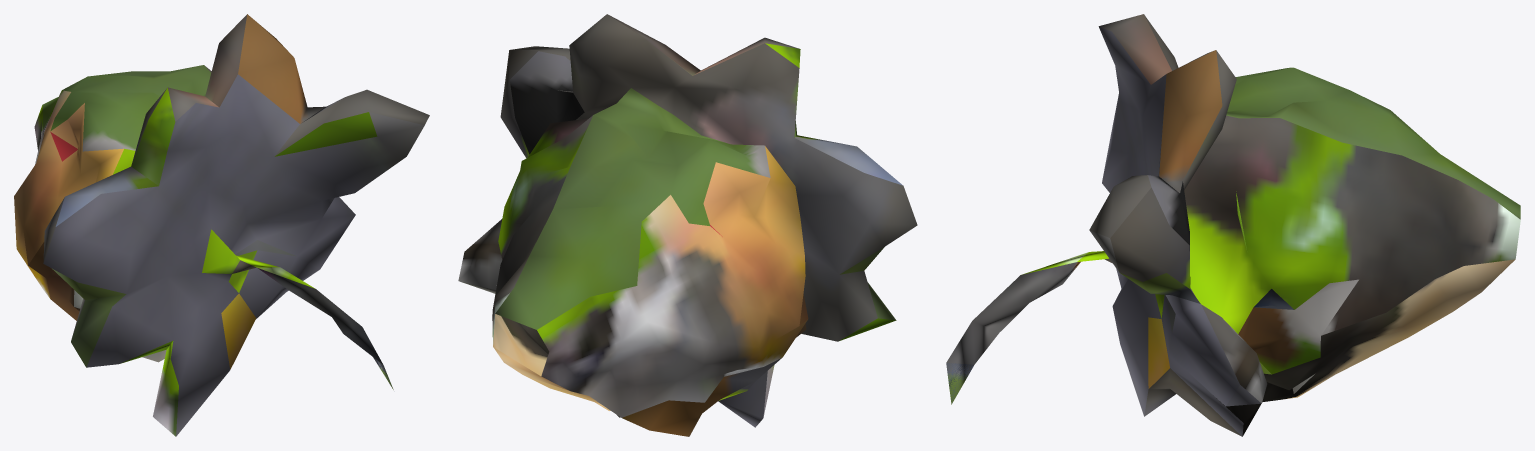
Rendered from strawberry.obj.
3 views of the same model, side by side, from view 1: azimuth 30°, elevation 25°; view 2: azimuth 150°, elevation 25°; view 3: azimuth 270°, elevation 25° (orthographic). The views are drawn at different scales.
Parts seen in each view (by area): view 1: mesh; view 2: mesh; view 3: mesh.
Boxes of the visible parts, x1=… form: mesh: x1=14, y1=14, x2=429, y2=436; mesh: x1=458, y1=14, x2=917, y2=436; mesh: x1=946, y1=14, x2=1520, y2=436.
Size of the model in its own units: 0.0503 by 0.0475 by 0.0584.
